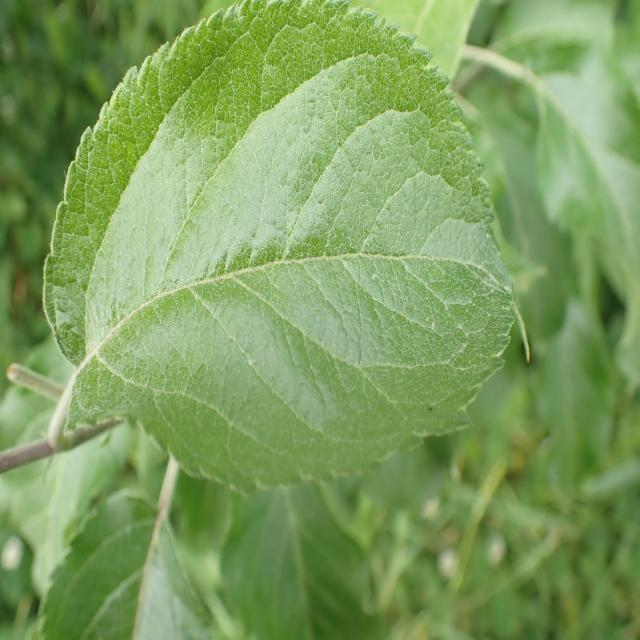healthy: (42, 1, 530, 497), (37, 490, 216, 640)
